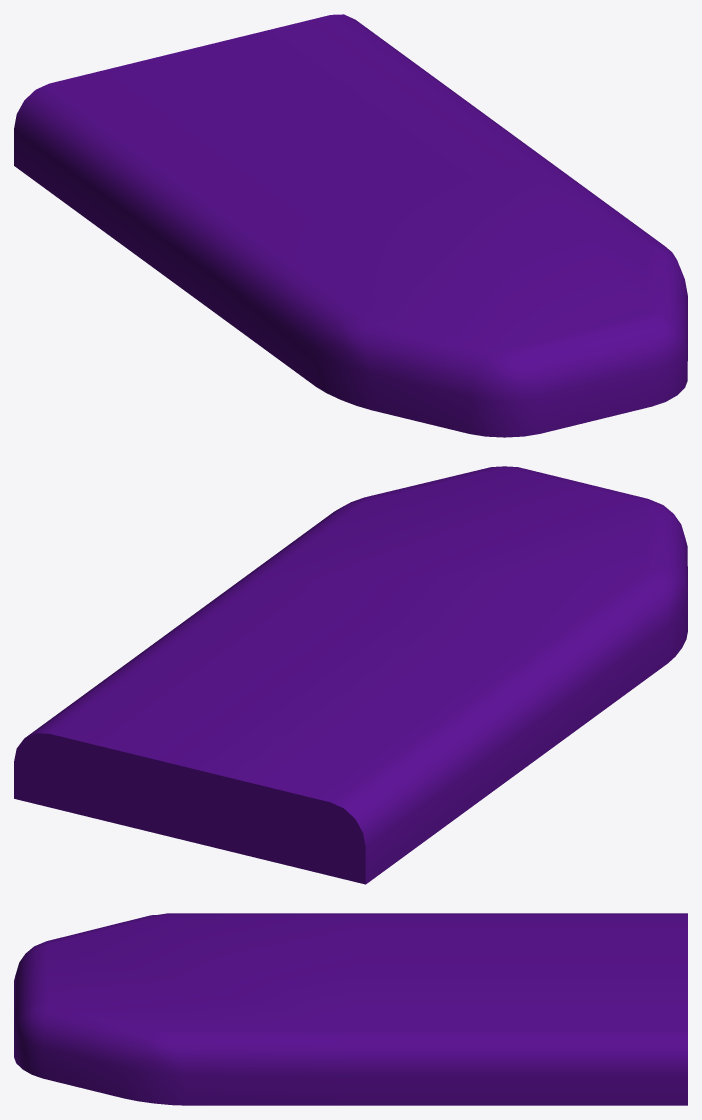
Rendered from base_catwalk_cap.fbx.
3 renders of one model, top to bottom at view 1: azimuth 30°, elevation 25°; view 2: azimuth 150°, elevation 25°; view 3: azimuth 270°, elevation 25°, orthographic. The views are drawn at different scales.
Visible parts, largest first — view 1: Cube.009; view 2: Cube.009; view 3: Cube.009.
Boxes of the visible parts, x1,y1,x2,y2 form: Cube.009: (14, 14, 687, 437); Cube.009: (14, 466, 687, 884); Cube.009: (14, 913, 687, 1105).
Bounding box in the file's own units: 20 × 4 × 40.
